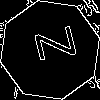Z: (25, 25, 77, 66)
